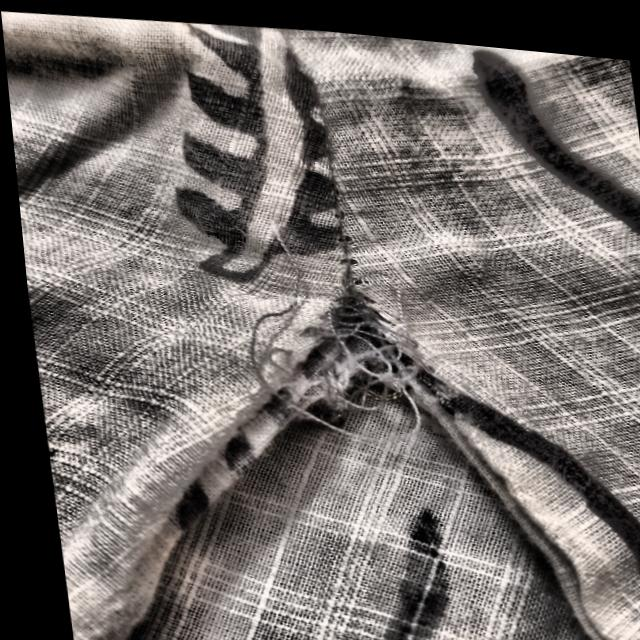Stitch: (208, 201, 456, 453)
